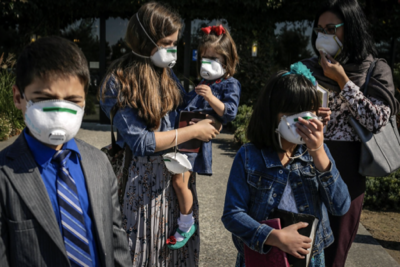with_mask: (21, 87, 85, 146), (277, 108, 316, 147), (312, 21, 343, 59), (148, 36, 177, 70), (198, 53, 224, 81)
